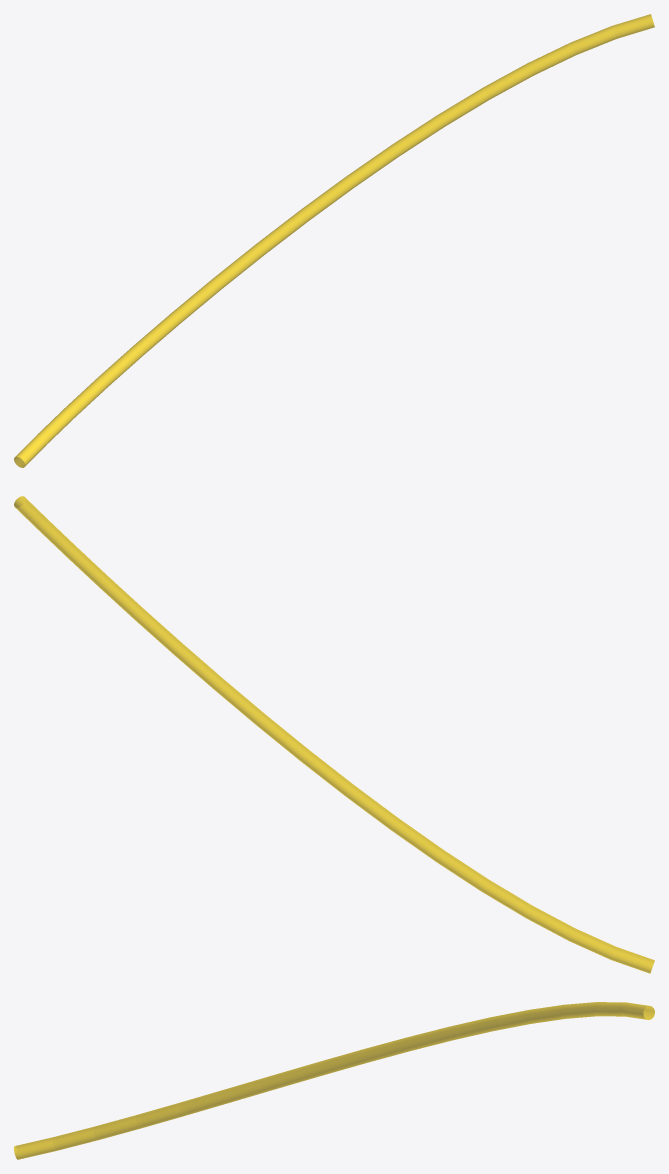
The model's file is Event_100608114_track_89.fbx.
3 views of the same model, one above another, from view 1: azimuth 30°, elevation 25°; view 2: azimuth 150°, elevation 25°; view 3: azimuth 330°, elevation 25° (orthographic). The views are drawn at different scales.
Visible parts, largest first — view 1: Model; view 2: Model; view 3: Model.
Part boxes in pixels (x1=…): Model: x1=14, y1=14, x2=654, y2=467; Model: x1=14, y1=496, x2=654, y2=973; Model: x1=14, y1=1002, x2=654, y2=1159.
Bounding box in the file's own units: 2.09 × 0.9738 × 0.2433.
